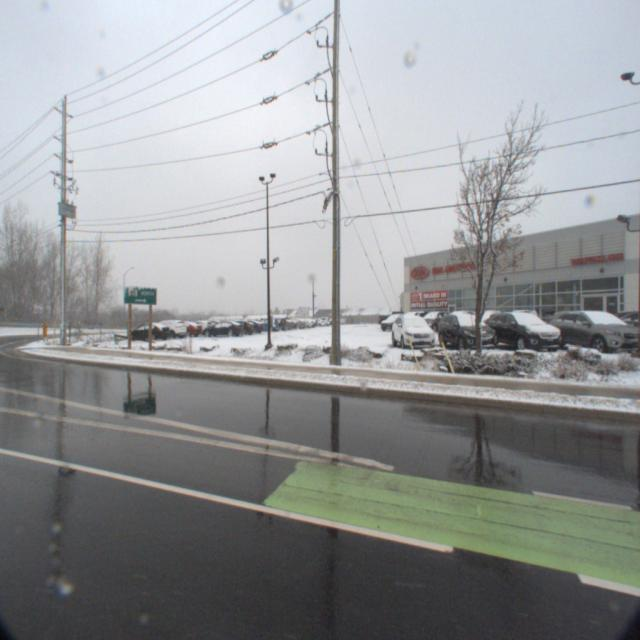Car: (478, 307, 566, 351), (431, 310, 501, 352), (388, 311, 437, 353), (433, 307, 477, 333), (139, 319, 187, 342), (410, 308, 454, 333), (121, 322, 171, 344), (196, 320, 244, 339), (160, 320, 202, 339), (376, 311, 412, 331), (248, 317, 278, 332)
